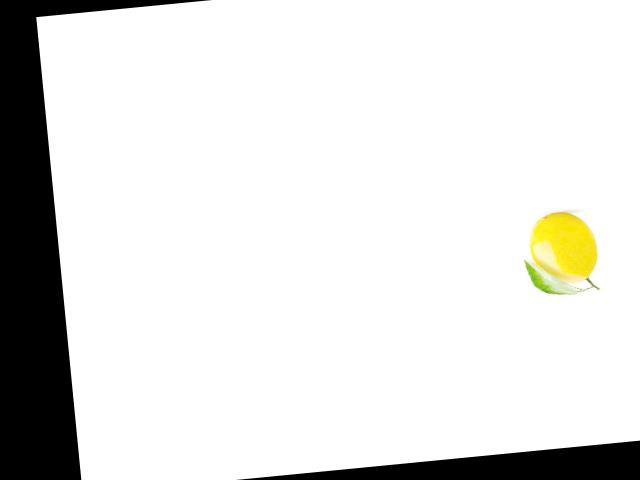lemon: (522, 206, 604, 296)
